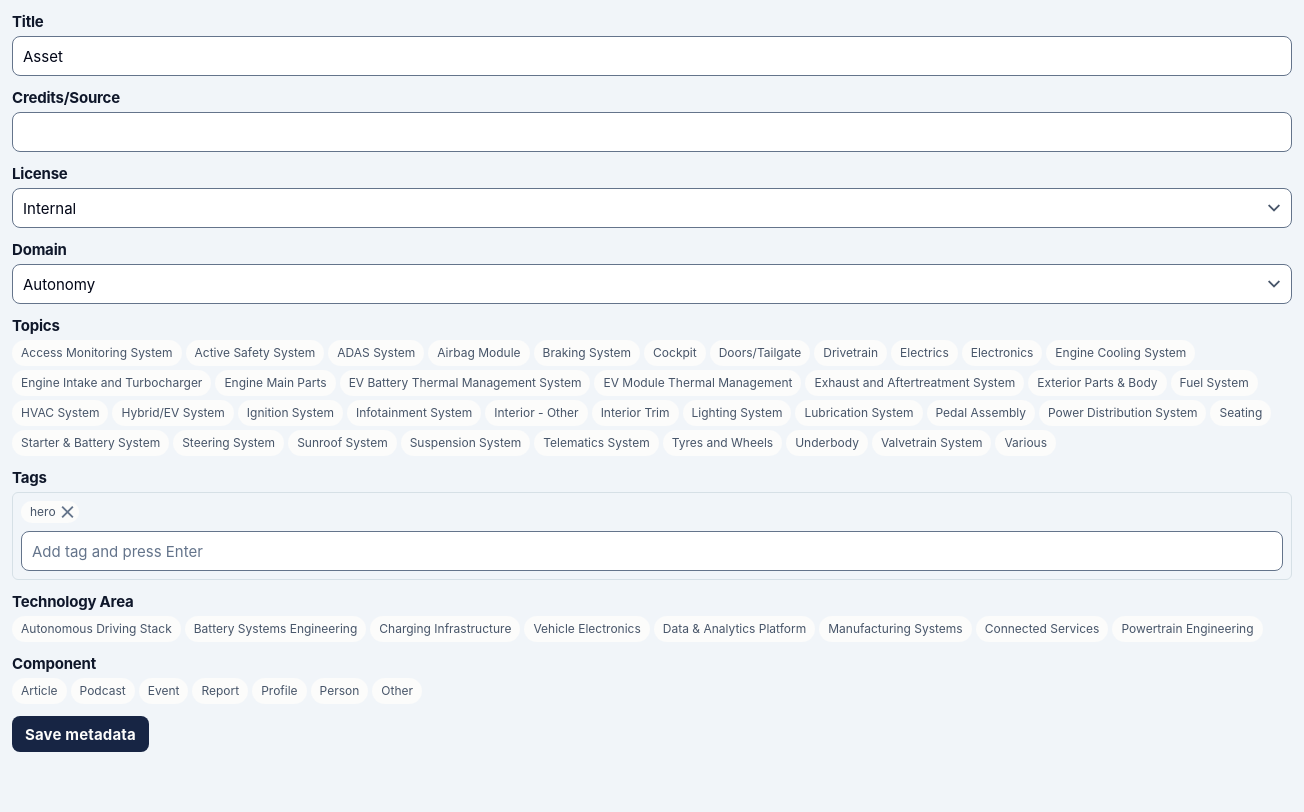
Scenario: Asset metadata and detail sheet › adds and removes tags chips
This screenshot has width=1304, height=812.
Type "featured" into the field with placeholder "Add tag and press Enter".
click(652, 551); type("featured")  # box x1=21 y1=531 x2=1283 y2=571
Then press Enter
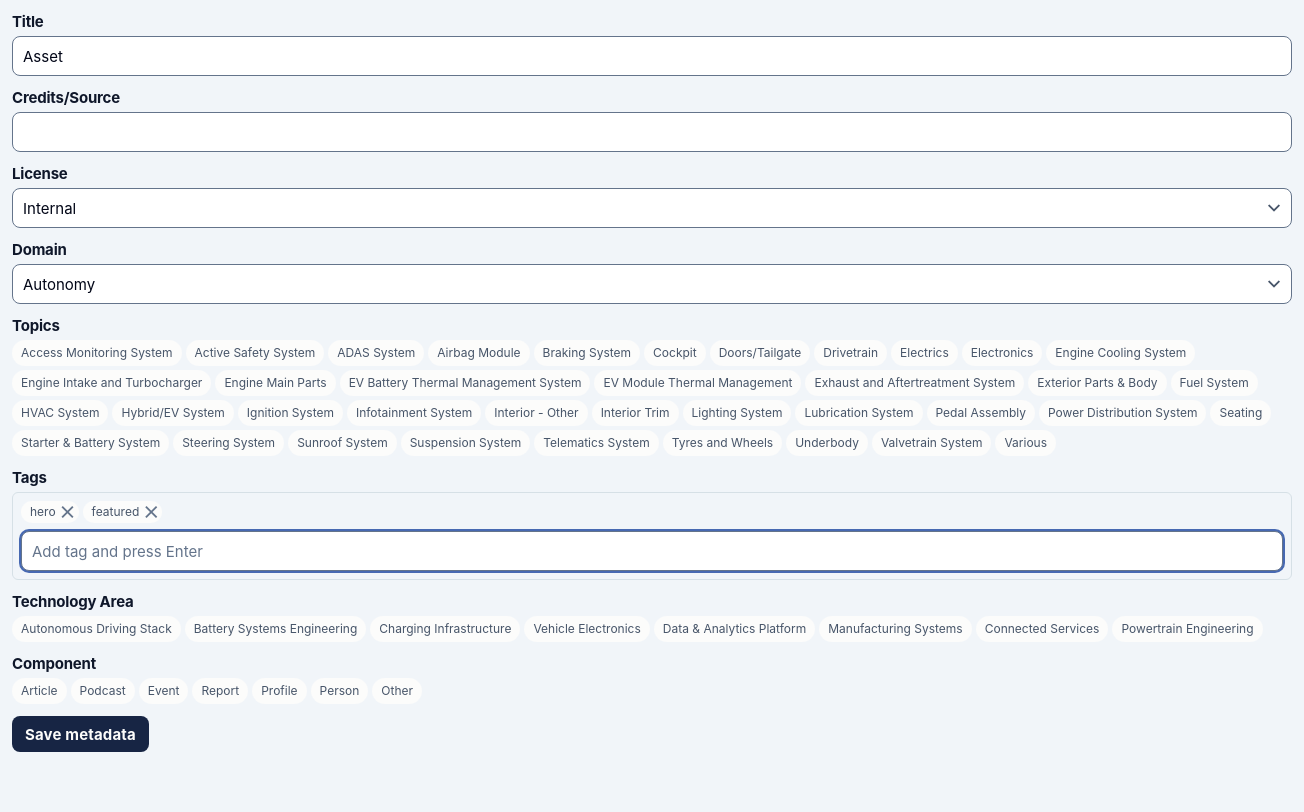
Check: the text "featured" is shown, box x1=92 y1=504 x2=139 y2=520
Click the button named "remove featured".
click(151, 512)  # box x1=141 y1=502 x2=161 y2=522
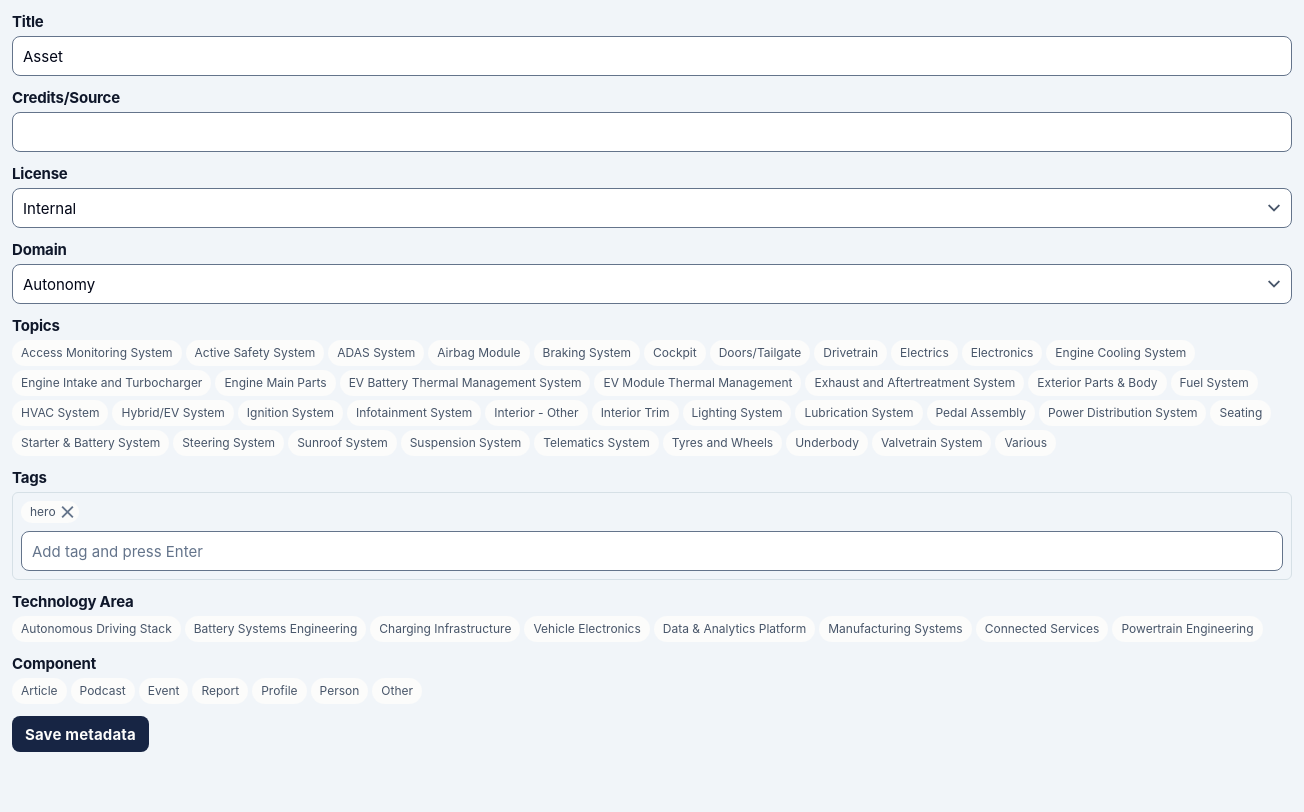
Check: the text "featured" is gone
